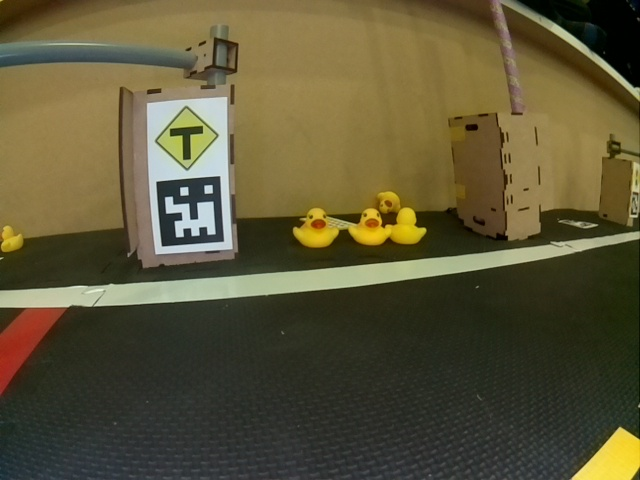Duckie: (299, 209, 337, 248), (350, 209, 387, 245), (389, 209, 426, 244), (2, 226, 23, 252), (378, 191, 401, 211)
Intersection sign: (152, 104, 222, 171)
QR code: (156, 180, 226, 247), (560, 217, 596, 226), (630, 192, 639, 216)
